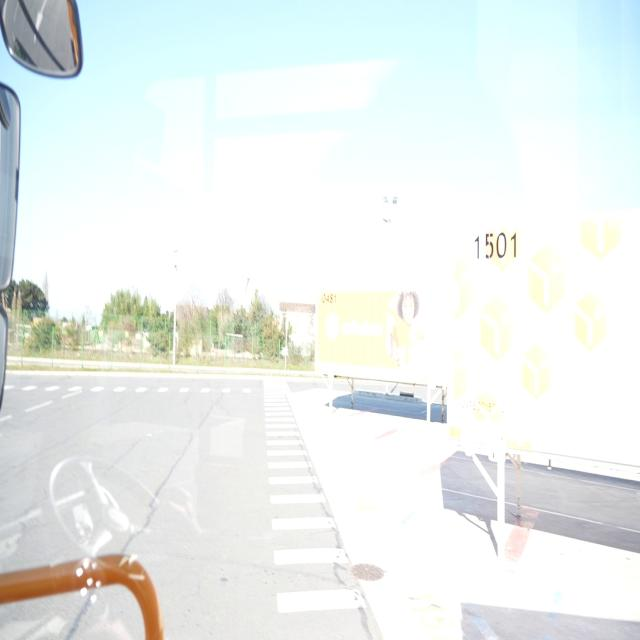Code: (470, 218, 516, 270), (321, 290, 339, 309)
